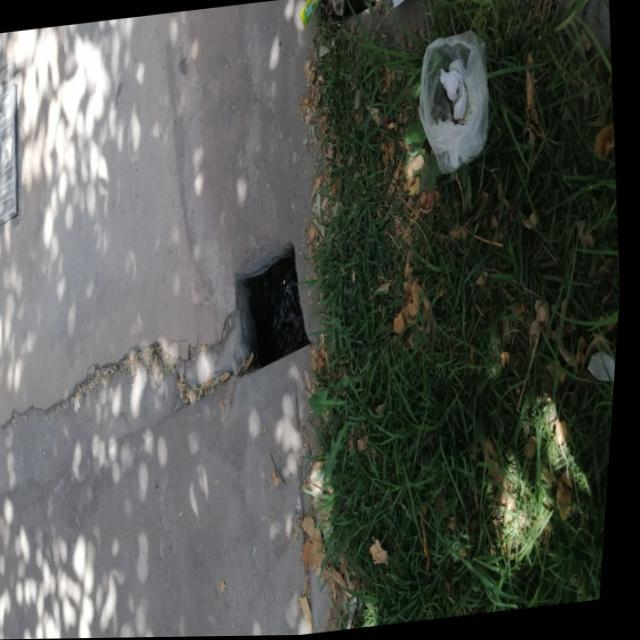hole: (226, 242, 324, 378)
